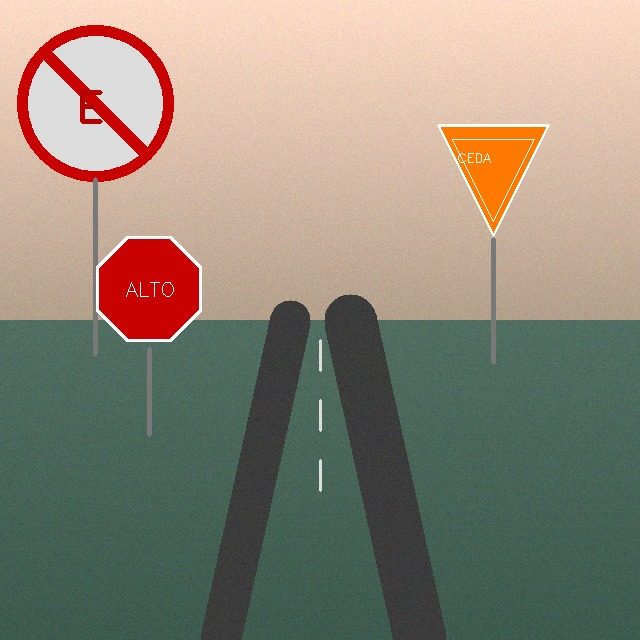alto: (91, 231, 208, 348)
ceda_el_paso: (434, 121, 552, 239)
no_estacionar: (20, 28, 171, 179)
